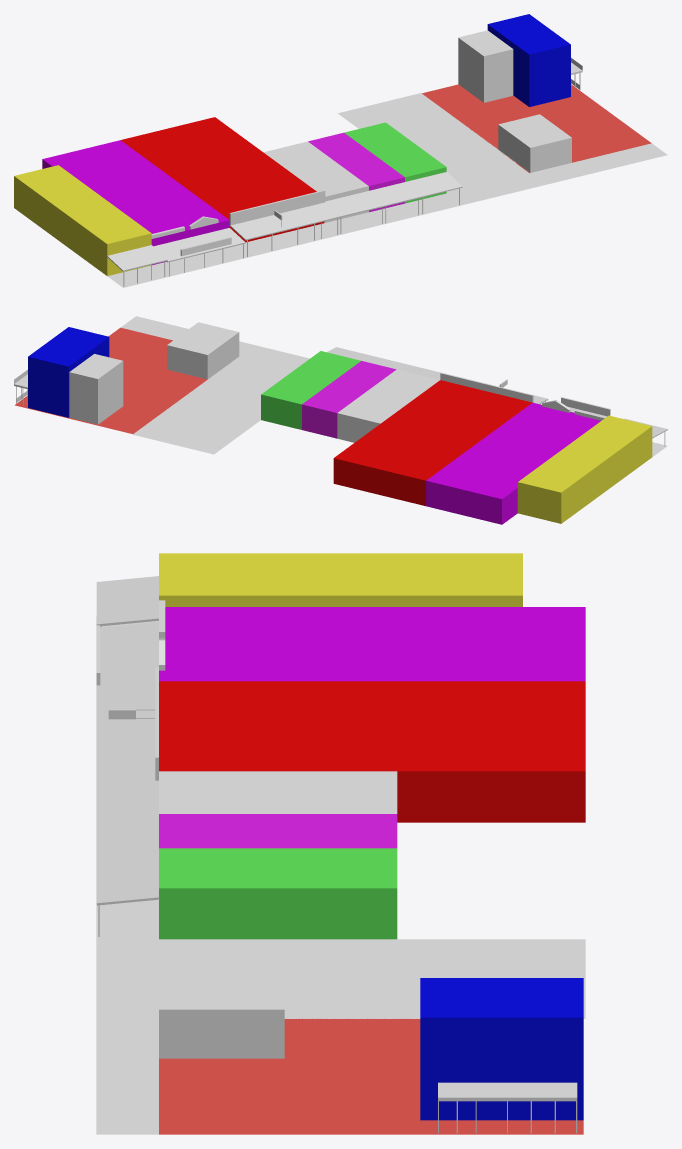
The model's file is GroceryStore_complex_no_collision.glb.
The picture shows the model from 3 angles, top to bottom: view 1: azimuth 30°, elevation 25°; view 2: azimuth 150°, elevation 25°; view 3: azimuth 270°, elevation 25°; orthographic projection. The views are drawn at different scales.
Visible parts, largest first — view 1: signagelegs(textuer).001, SideWalk, RaynesMarketMain-col, JunosDrugStoreMain-col, Lot, Cube.003, ApartmentMain, ApartmentSideMain, SideWalk.001, EmptyStoreMainPiece, Cube.002, EmptyShopMain-col (+7 smaller); view 2: signagelegs(textuer).001, RaynesMarketMain-col, JunosDrugStoreMain-col, Cube.003, Lot, ApartmentMain, Cube.002, EmptyStoreMainPiece, ApartmentSideMain, SideWalk.001, EmptyShopMain-col, SideWalk (+4 smaller); view 3: signagelegs(textuer).001, RaynesMarketMain-col, Lot, Cube.002, ApartmentMain, Cube.003, JunosDrugStoreMain-col, SideWalk, SideWalk.001, EmptyStoreMainPiece, EmptyShopMain-col, Hayden'sRoofSignageSmall.001 (+6 smaller).
Boxes of the visible parts, x1=… form: signagelegs(textuer).001: x1=120, y1=117, x2=324, y2=242; SideWalk: x1=107, y1=143, x2=667, y2=287; RaynesMarketMain-col: x1=42, y1=140, x2=229, y2=265; JunosDrugStoreMain-col: x1=14, y1=165, x2=151, y2=275; Lot: x1=422, y1=84, x2=651, y2=172; Cube.003: x1=338, y1=93, x2=528, y2=193; ApartmentMain: x1=487, y1=14, x2=570, y2=106; ApartmentSideMain: x1=458, y1=30, x2=513, y2=102; SideWalk.001: x1=498, y1=114, x2=571, y2=172; EmptyStoreMainPiece: x1=264, y1=141, x2=368, y2=222; Cube.002: x1=344, y1=122, x2=446, y2=203; EmptyShopMain-col: x1=308, y1=132, x2=404, y2=212; signagelegs(textuer).001: x1=333, y1=380, x2=532, y2=506; RaynesMarketMain-col: x1=426, y1=402, x2=600, y2=524; JunosDrugStoreMain-col: x1=517, y1=415, x2=652, y2=523; Cube.003: x1=133, y1=356, x2=293, y2=454; Lot: x1=15, y1=327, x2=207, y2=433; ApartmentMain: x1=28, y1=327, x2=109, y2=417; Cube.002: x1=261, y1=351, x2=360, y2=429; EmptyStoreMainPiece: x1=337, y1=369, x2=439, y2=442; ApartmentSideMain: x1=69, y1=354, x2=123, y2=424; SideWalk.001: x1=167, y1=322, x2=239, y2=379; EmptyShopMain-col: x1=302, y1=361, x2=396, y2=438; SideWalk: x1=121, y1=316, x2=667, y2=456; signagelegs(textuer).001: x1=159, y1=681, x2=585, y2=822; RaynesMarketMain-col: x1=159, y1=607, x2=585, y2=681; Lot: x1=159, y1=1018, x2=583, y2=1134; Cube.002: x1=159, y1=848, x2=397, y2=939; ApartmentMain: x1=420, y1=978, x2=583, y2=1120; Cube.003: x1=159, y1=939, x2=585, y2=1018; JunosDrugStoreMain-col: x1=159, y1=553, x2=522, y2=606; SideWalk: x1=96, y1=616, x2=158, y2=1134; SideWalk.001: x1=159, y1=970, x2=284, y2=1058; EmptyStoreMainPiece: x1=159, y1=771, x2=397, y2=813; EmptyShopMain-col: x1=159, y1=814, x2=397, y2=848; Hayden'sRoofSignageSmall.001: x1=96, y1=691, x2=156, y2=786.
Size of the model in its own units: 98.2 by 9.15 by 39.
